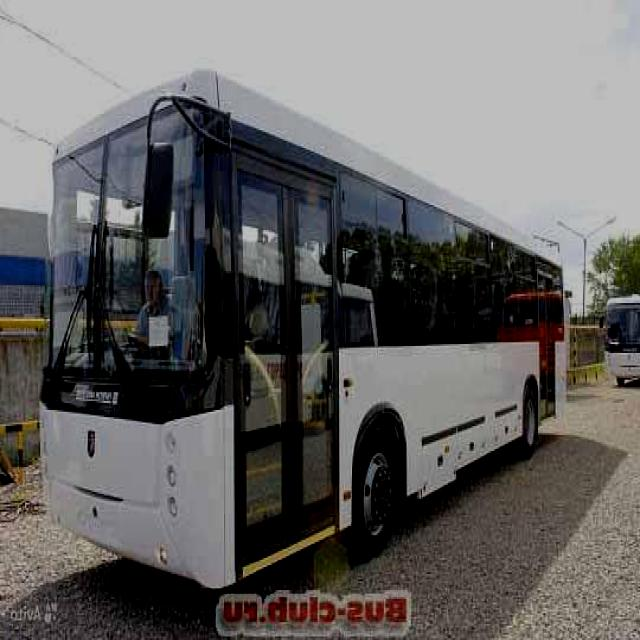bus: (41, 58, 575, 591)
